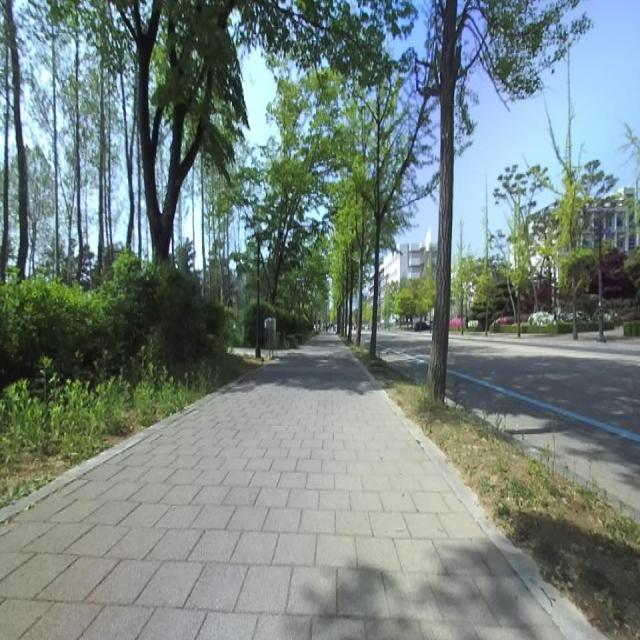sidewalk: (0, 336, 606, 639)
